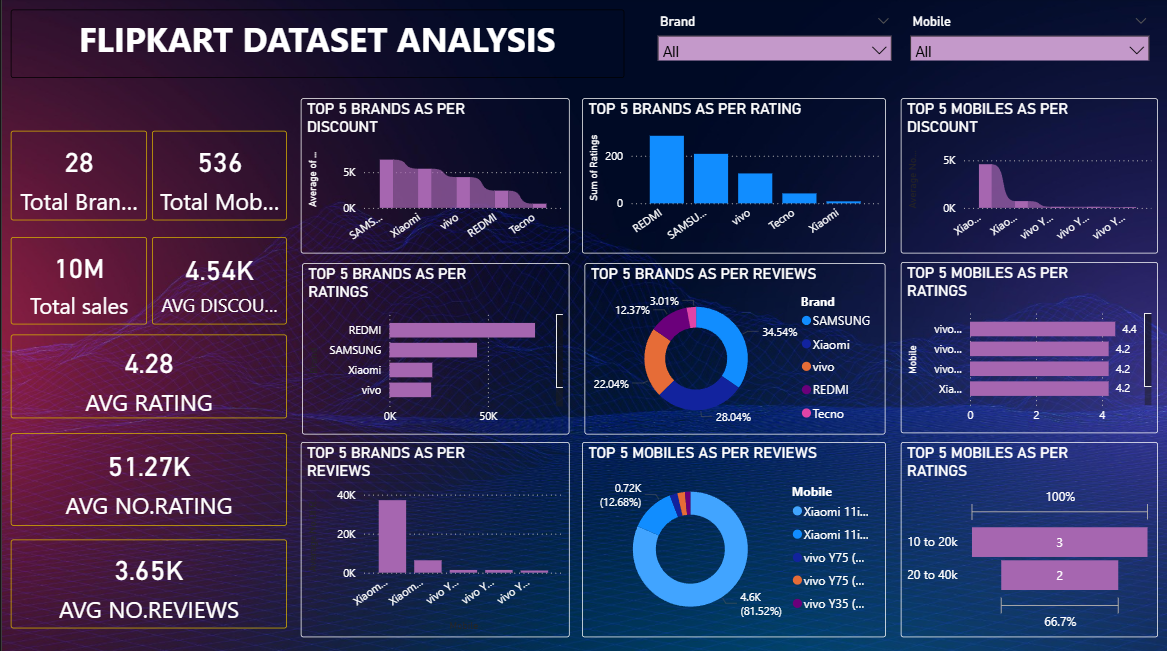

This screenshot's page, from the dashboard's own definition file:
{"tool":"powerbi","page":{"name":"Page 1","canvas":[1280,720],"ordinal":0},"visuals":[{"type":"card","fields":{"Values":["Flipkart.Average No.Of Ratings"]},"box":[9.6,478.9,303.3,101.5],"z":0},{"type":"card","fields":{"Values":["Flipkart.Average No.of Reviews"]},"box":[9.6,595.5,303.3,97.4],"z":1000},{"type":"card","fields":{"Values":["Flipkart.Average Of Ratings"]},"box":[9.6,370.5,303.3,91.9],"z":2000},{"type":"columnChart","title":"TOP 5 BRANDS AS PER RATING","fields":{"Category":["Flipkart.Brand"],"Y":["Sum(Flipkart.Ratings)"]},"box":[636.7,111.1,333.4,170.2],"z":3000},{"type":"card","fields":{"Values":["Flipkart.Total Brands"]},"box":[9.6,146.8,149.6,98.8],"z":4000},{"type":"card","fields":{"Values":["Flipkart.Total Mobiles"]},"box":[164.7,146.8,148.2,98.8],"z":5000},{"type":"card","fields":{"Values":["Flipkart.Total sales"]},"box":[9.6,263.5,149.6,96.1],"z":6000},{"type":"textbox","box":[10,13.3,673.3,75],"z":7000},{"type":"card","fields":{"Values":["Avg(Flipkart.Total Discount)"]},"box":[164.7,263.5,148.2,96.1],"z":8000},{"type":"ribbonChart","title":"TOP 5 BRANDS AS PER  DISCOUNT","fields":{"Category":["Flipkart.Brand"],"Y":["Avg(Flipkart.Total Discount)"]},"box":[328,111.1,295,170.2],"z":9000},{"type":"donutChart","title":"TOP 5 BRANDS AS PER REVIEWS","fields":{"Category":["Flipkart.Brand"],"Y":["Avg(Flipkart.Total Discount)"]},"box":[639.5,292.3,330.7,188],"z":10000},{"type":"barChart","title":"TOP 5 BRANDS AS PER RATINGS","fields":{"Category":["Flipkart.Brand"],"Y":["Flipkart.Average No.Of Ratings"]},"box":[329.3,292.3,293.7,188],"z":11000},{"type":"columnChart","title":"TOP 5 BRANDS AS PER REVIEWS","fields":{"Y":["Flipkart.Average No.Of Ratings"],"Category":["Flipkart.Mobile"]},"box":[328,488.5,295,214.1],"z":12000},{"type":"donutChart","title":"TOP 5 MOBILES AS PER REVIEWS","fields":{"Category":["Flipkart.Mobile"],"Y":["Flipkart.Average No.of Reviews"]},"box":[636.7,488.5,333.4,214.1],"z":13000},{"type":"ribbonChart","title":"TOP 5 MOBILES AS PER DISCOUNT","fields":{"Category":["Flipkart.Mobile"],"Y":["Flipkart.Average No.of Reviews"]},"box":[986.6,111.1,282.7,170.2],"z":14000},{"type":"barChart","title":"TOP 5 MOBILES AS PER RATINGS","fields":{"Category":["Flipkart.Mobile"],"Y":["Flipkart.Average Of Ratings"]},"box":[986.6,290.9,282.7,188],"z":15000},{"type":"funnel","title":"TOP 5 MOBILES AS PER RATINGS","fields":{"Category":["Flipkart.Price Range"],"Y":["CountNonNull(Flipkart.Brand)"]},"box":[986.6,488.5,282.7,214.1],"z":16000},{"type":"slicer","fields":{"Values":["Flipkart.Brand"]},"box":[709.4,13.7,277.2,56.3],"z":17000},{"type":"slicer","fields":{"Values":["Flipkart.Mobile"]},"box":[986.6,13.7,282.7,56.3],"z":18000}]}

Visuals, with their boxes in screenshot pixels (x1, y1, x2, y2), scaled from the page's 1280x720 canvas onto the 1167x651 screenshot:
card - Flipkart.Average No.Of Ratings: box=[9, 433, 285, 525]
card - Flipkart.Average No.of Reviews: box=[9, 538, 285, 626]
card - Flipkart.Average Of Ratings: box=[9, 335, 285, 418]
"TOP 5 BRANDS AS PER RATING" columnChart: box=[580, 100, 884, 254]
card - Flipkart.Total Brands: box=[9, 133, 145, 222]
card - Flipkart.Total Mobiles: box=[150, 133, 285, 222]
card - Flipkart.Total sales: box=[9, 238, 145, 325]
textbox: box=[9, 12, 623, 80]
card - Avg(Flipkart.Total Discount): box=[150, 238, 285, 325]
"TOP 5 BRANDS AS PER  DISCOUNT" ribbonChart: box=[299, 100, 568, 254]
"TOP 5 BRANDS AS PER REVIEWS" donutChart: box=[583, 264, 885, 434]
"TOP 5 BRANDS AS PER RATINGS" barChart: box=[300, 264, 568, 434]
"TOP 5 BRANDS AS PER REVIEWS" columnChart: box=[299, 442, 568, 635]
"TOP 5 MOBILES AS PER REVIEWS" donutChart: box=[580, 442, 884, 635]
"TOP 5 MOBILES AS PER DISCOUNT" ribbonChart: box=[900, 100, 1157, 254]
"TOP 5 MOBILES AS PER RATINGS" barChart: box=[900, 263, 1157, 433]
"TOP 5 MOBILES AS PER RATINGS" funnel: box=[900, 442, 1157, 635]
slicer - Flipkart.Brand: box=[647, 12, 900, 63]
slicer - Flipkart.Mobile: box=[900, 12, 1157, 63]
